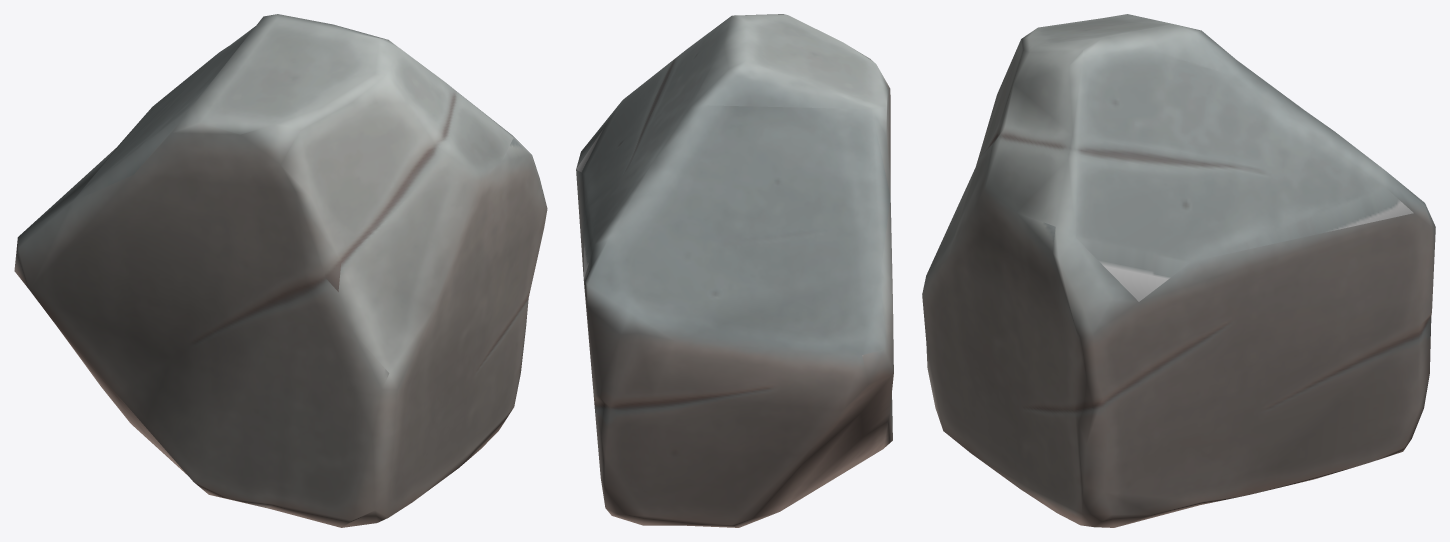
File: ENV2110044.fbx
3 views of the same model, side by side, from view 1: azimuth 30°, elevation 25°; view 2: azimuth 150°, elevation 25°; view 3: azimuth 270°, elevation 25° (orthographic). The views are drawn at different scales.
Parts seen in each view (by area): view 1: smENV2110044; view 2: smENV2110044; view 3: smENV2110044.
Boxes of the visible parts, bbox=[...] form: smENV2110044: bbox=[14, 14, 547, 527]; smENV2110044: bbox=[576, 14, 893, 527]; smENV2110044: bbox=[922, 14, 1435, 527].
Bounding box in the file's own units: 115 × 110 × 120.
Materials: 1 (1 with a texture image).
